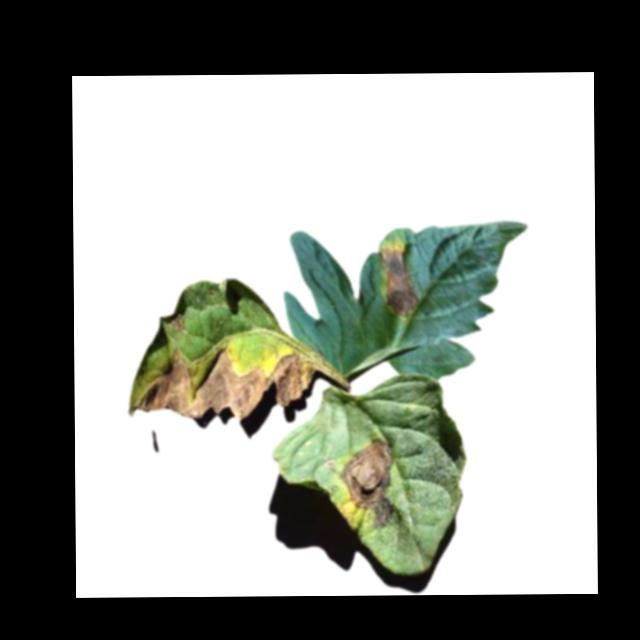Early_blight: (127, 341, 316, 419), (337, 437, 401, 529), (376, 240, 419, 318), (168, 312, 187, 333)
